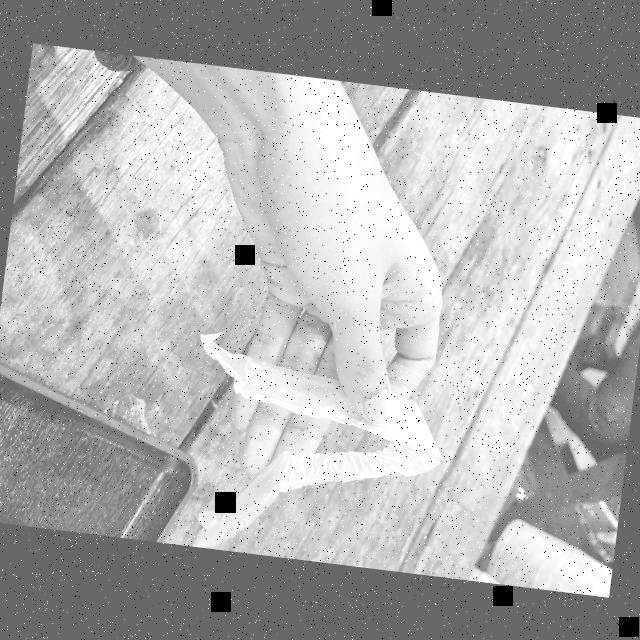scrap_plastic: (166, 318, 461, 576)
